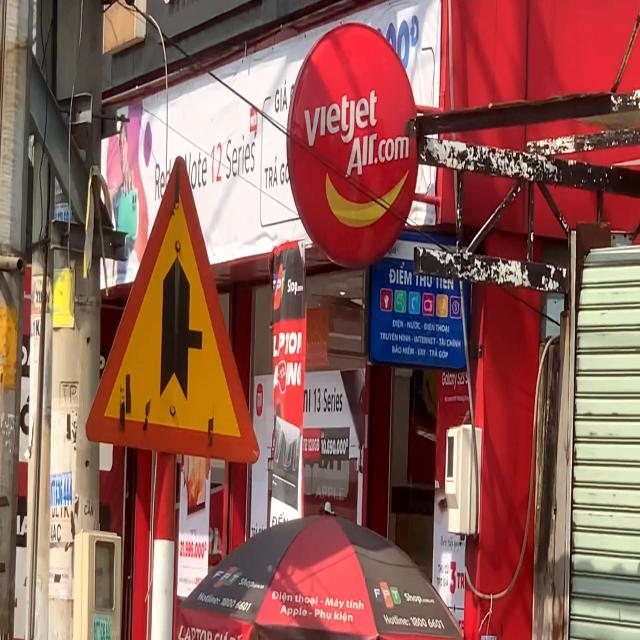W.207b: (83, 152, 261, 470)
